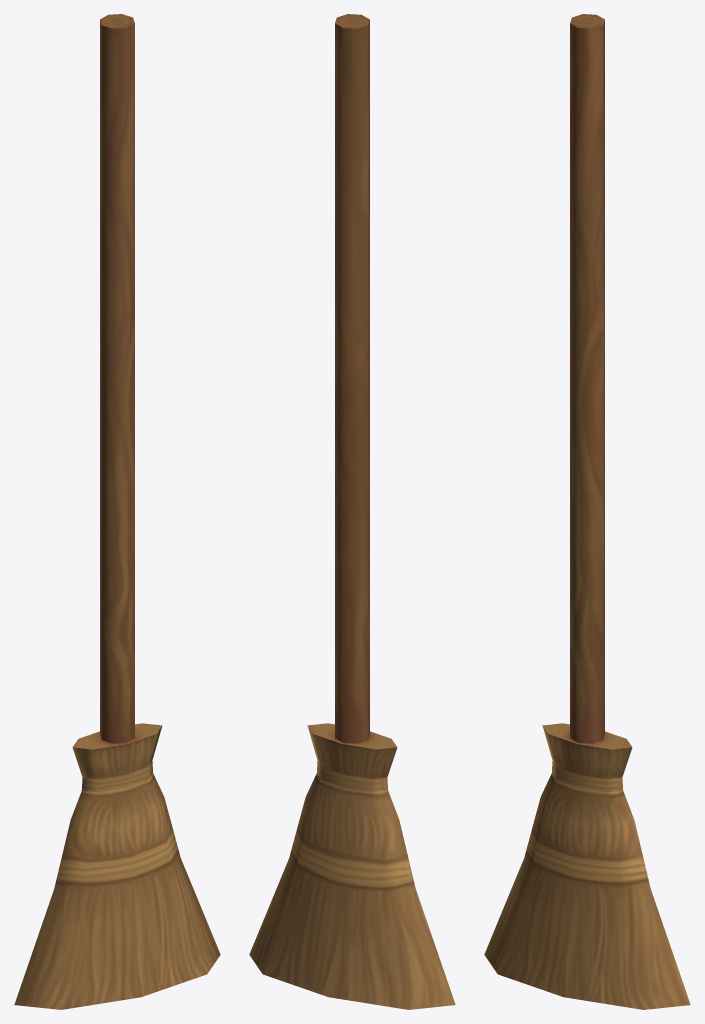
Rendered from Metla.fbx.
3 renders of one model, left to right at view 1: azimuth 30°, elevation 25°; view 2: azimuth 150°, elevation 25°; view 3: azimuth 330°, elevation 25°, orthographic.
Parts seen in each view (by area): view 1: Metla; view 2: Metla; view 3: Metla.
Part boxes in pixels (x1,y1,x2,y2): Metla: [14, 14, 220, 1009]; Metla: [249, 14, 455, 1009]; Metla: [484, 14, 690, 1009].
Size of the model in its own units: 16.81 by 74.57 by 6.7.
Materials: 1 (1 with a texture image).
